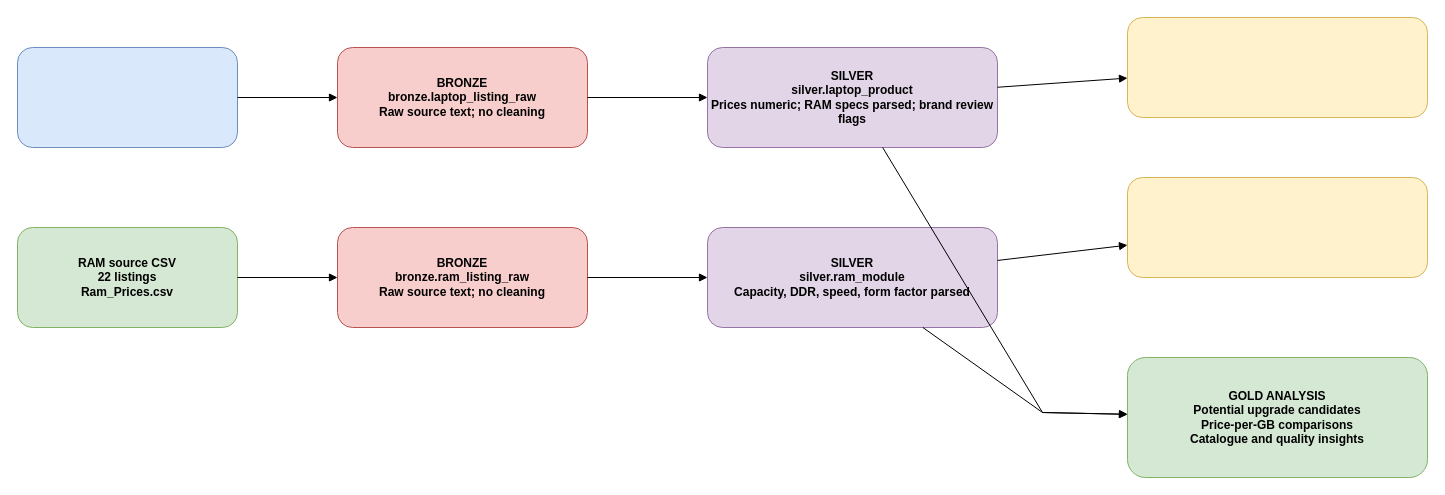
This 1445x495 diagram has some shape labels left out. Here are the shapes that lost their labels. From the top down, the centre of each, then its label:
point 1277,67: GOLD dim_laptop + fact_laptop_price One row per laptop listing
point 127,97: Laptop source CSV 379 listings laptop_ram_trend.csv
point 1277,227: GOLD dim_ram_module + fact_ram_module_price One row per RAM listing
